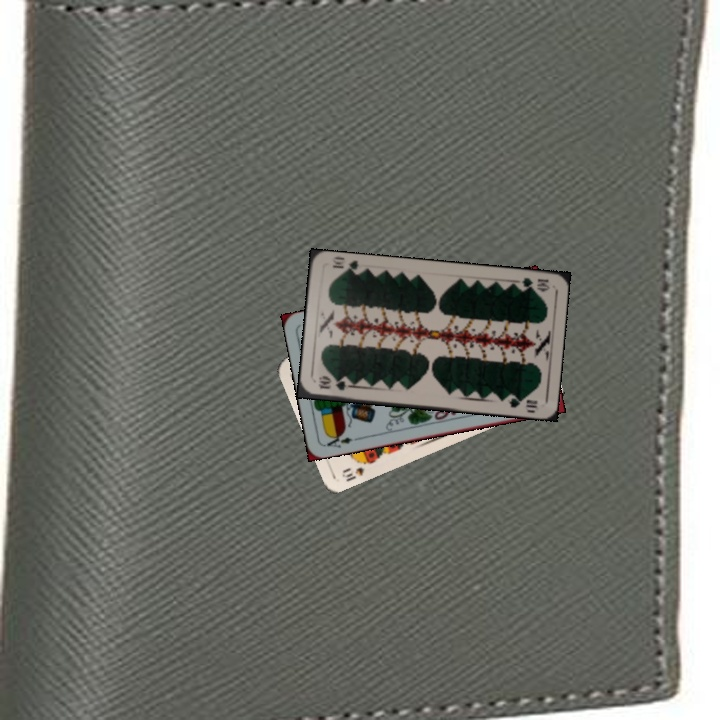EA: (321, 429, 355, 450)
G10: (512, 273, 552, 294), (314, 374, 354, 393)
S10: (338, 456, 374, 484)
